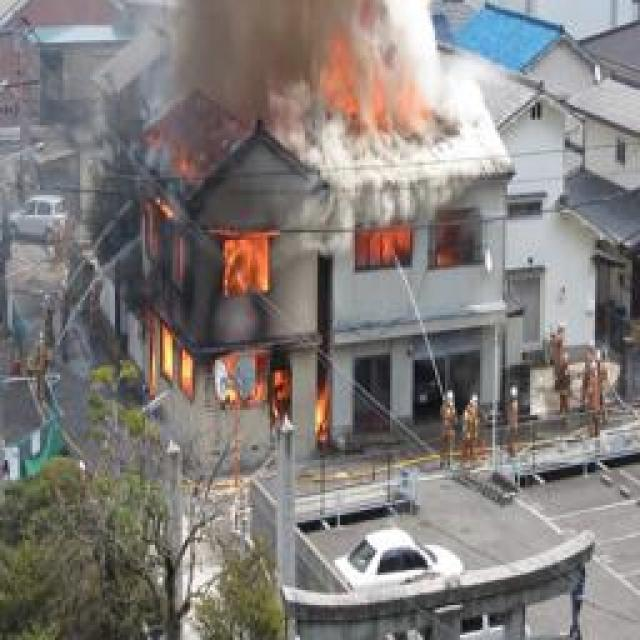Fire: (132, 132, 340, 446), (316, 32, 439, 138), (352, 223, 463, 275)
